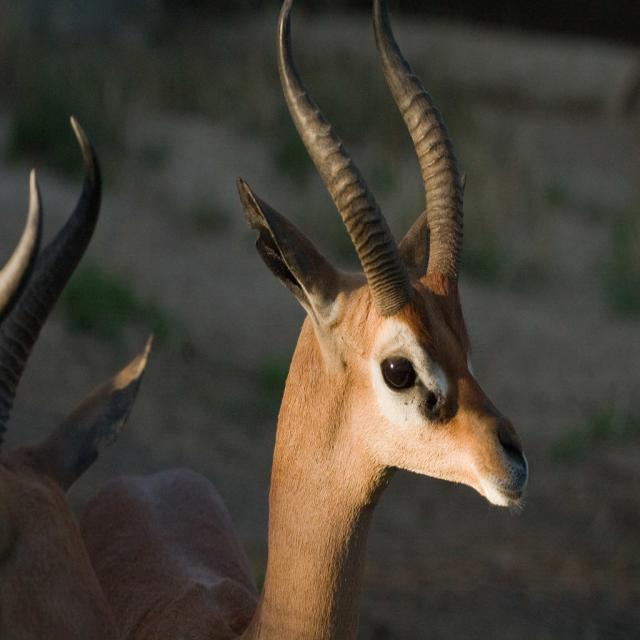Deer: (80, 0, 528, 640), (0, 114, 154, 639)
